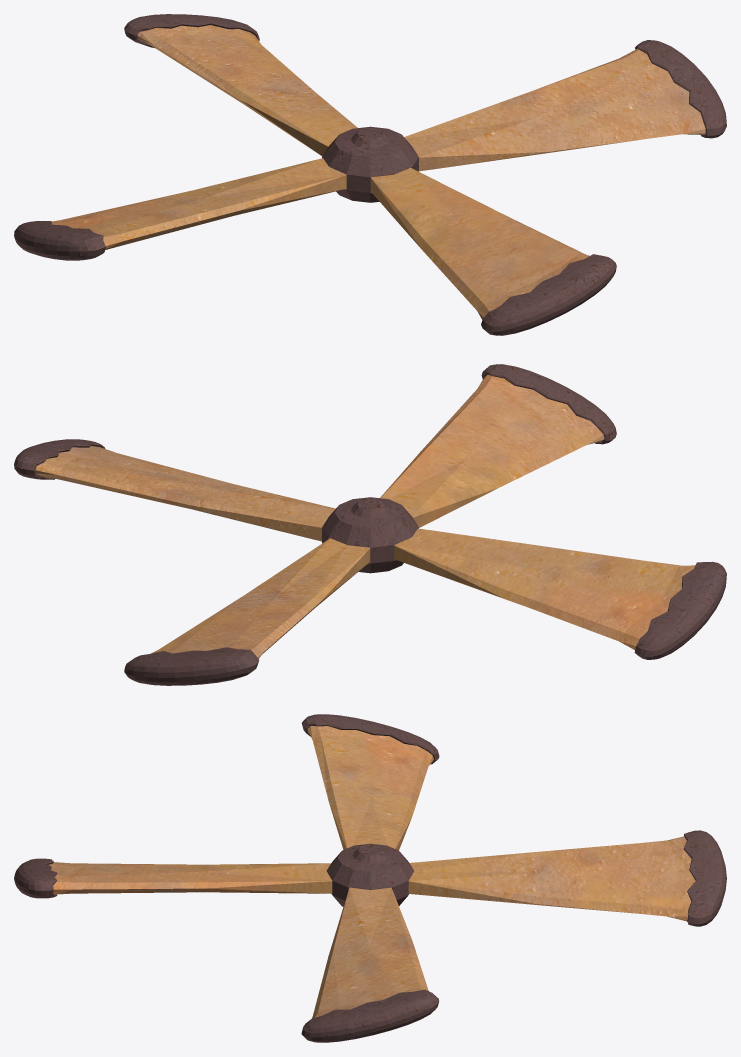
Rendered from puddingmill wings.obj.
3 views of the same model, one above another, from view 1: azimuth 30°, elevation 25°; view 2: azimuth 150°, elevation 25°; view 3: azimuth 270°, elevation 25° (orthographic). The views are drawn at different scales.
Visible parts, largest first — view 1: puddingmill_wingsmesh; view 2: puddingmill_wingsmesh; view 3: puddingmill_wingsmesh.
Boxes of the visible parts, x1=… form: puddingmill_wingsmesh: x1=14, y1=14, x2=726, y2=335; puddingmill_wingsmesh: x1=14, y1=364, x2=726, y2=685; puddingmill_wingsmesh: x1=14, y1=714, x2=726, y2=1042.
Bounding box in the file's own units: 16.88 × 1.33 × 16.88.
Materials: 1 (1 with a texture image).
